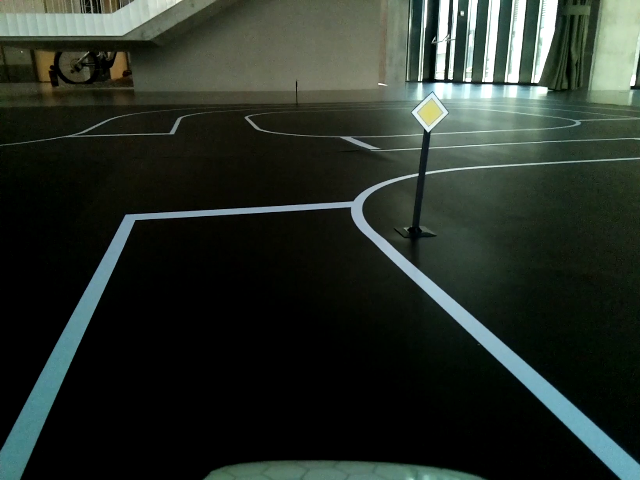priority: (413, 95, 447, 131)
